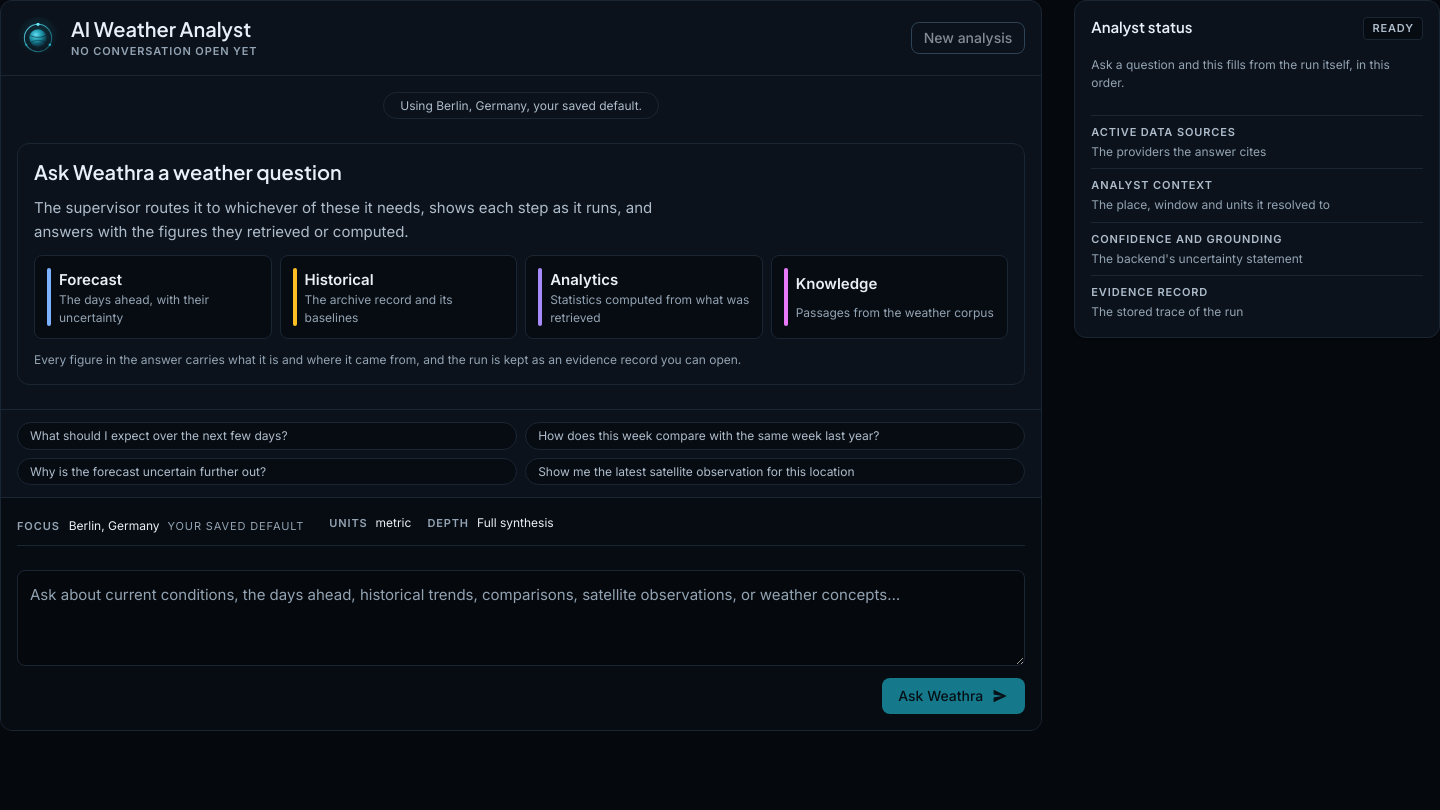
Test: when the session ends › routes a refused stream to the shared expired-session state, not to a question failure
The width and height of the screenshot is (1440, 810).
Replace the text in the text box named "Your weather question" with "What should I expect?": (521, 618) x1=17 y1=570 x2=1025 y2=666
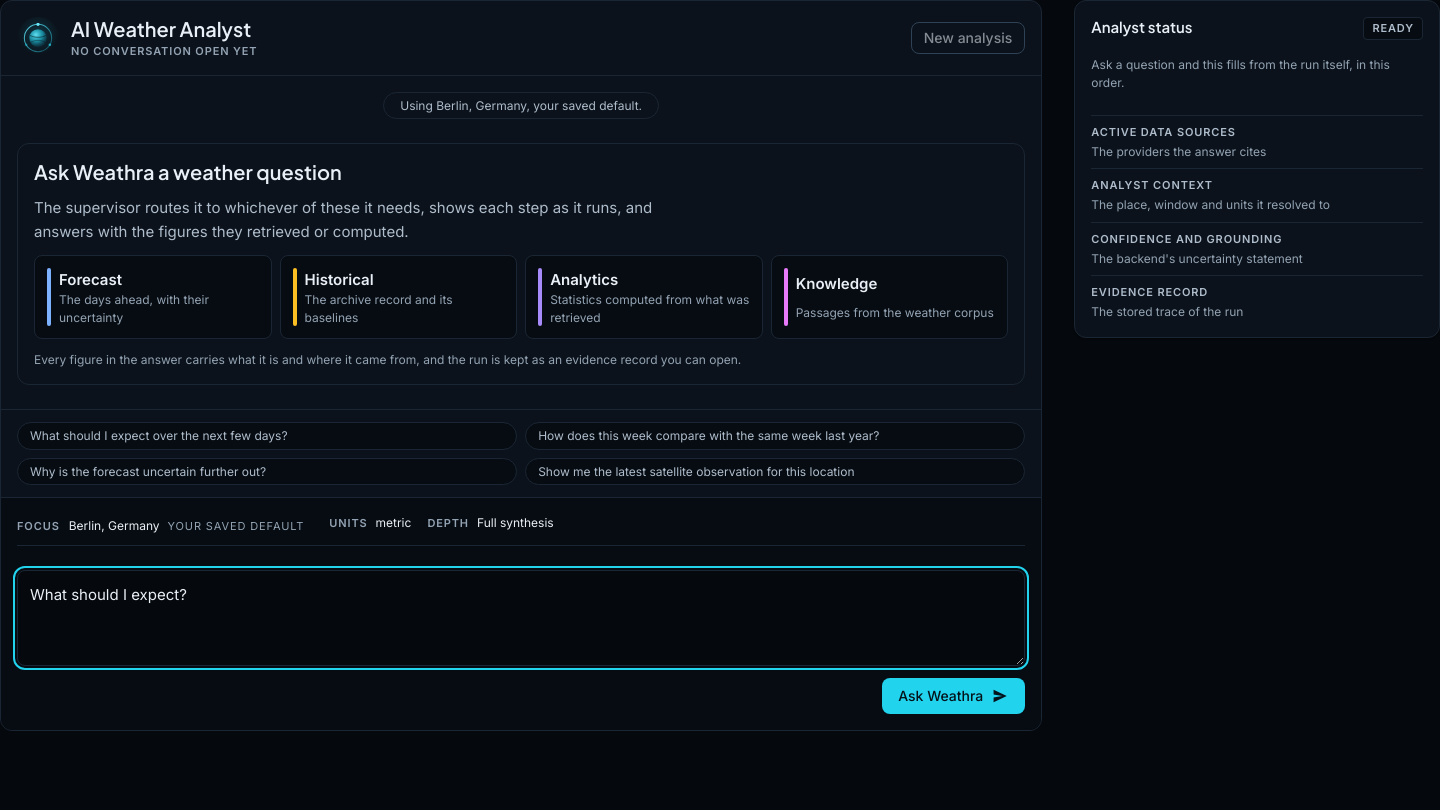
Click the button "Ask Weathra": (954, 696) x1=882 y1=678 x2=1025 y2=714
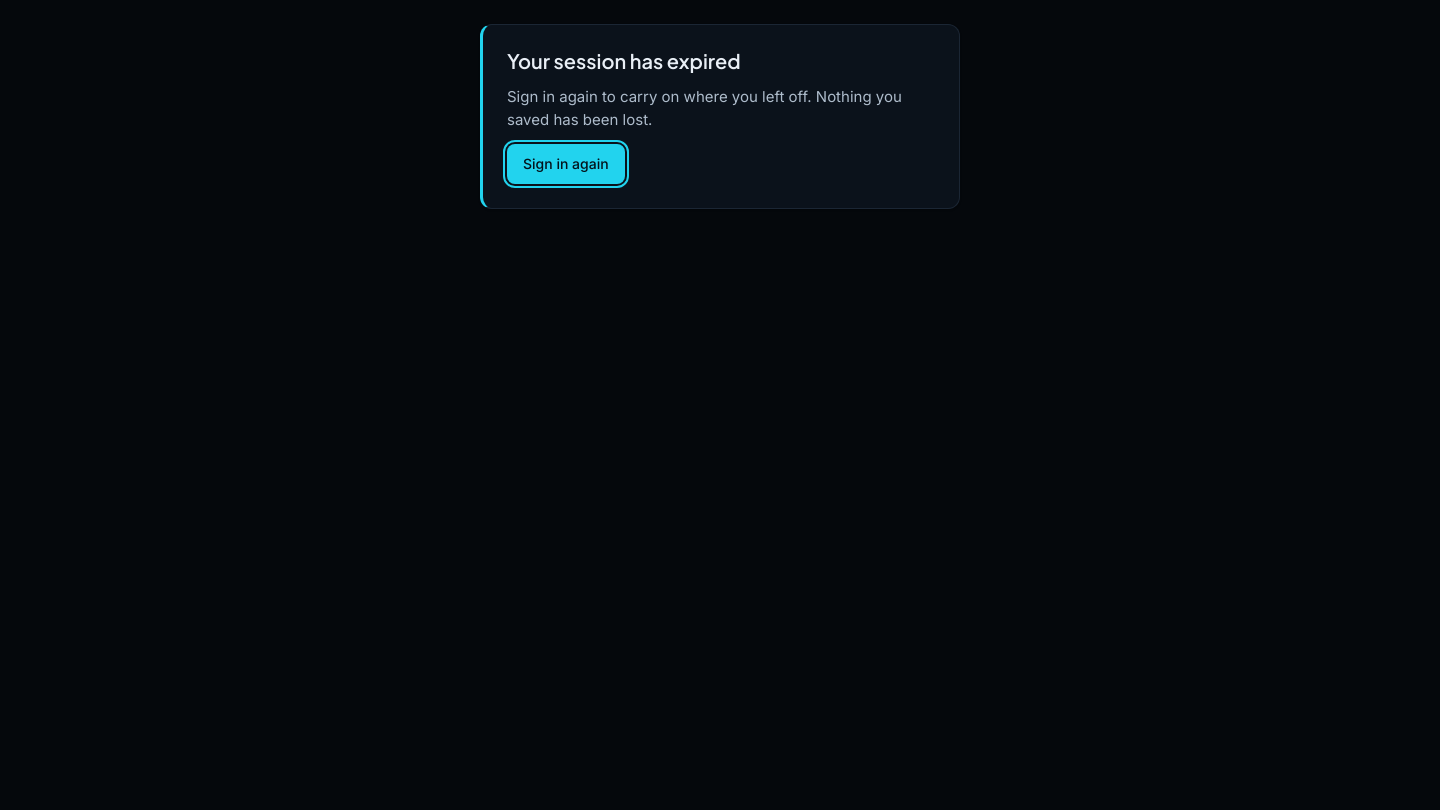
Expected: the message shows "Your session has expired", x1=507 y1=48 x2=741 y2=73
Expected: the text box labelled "Your weather question" is gone
